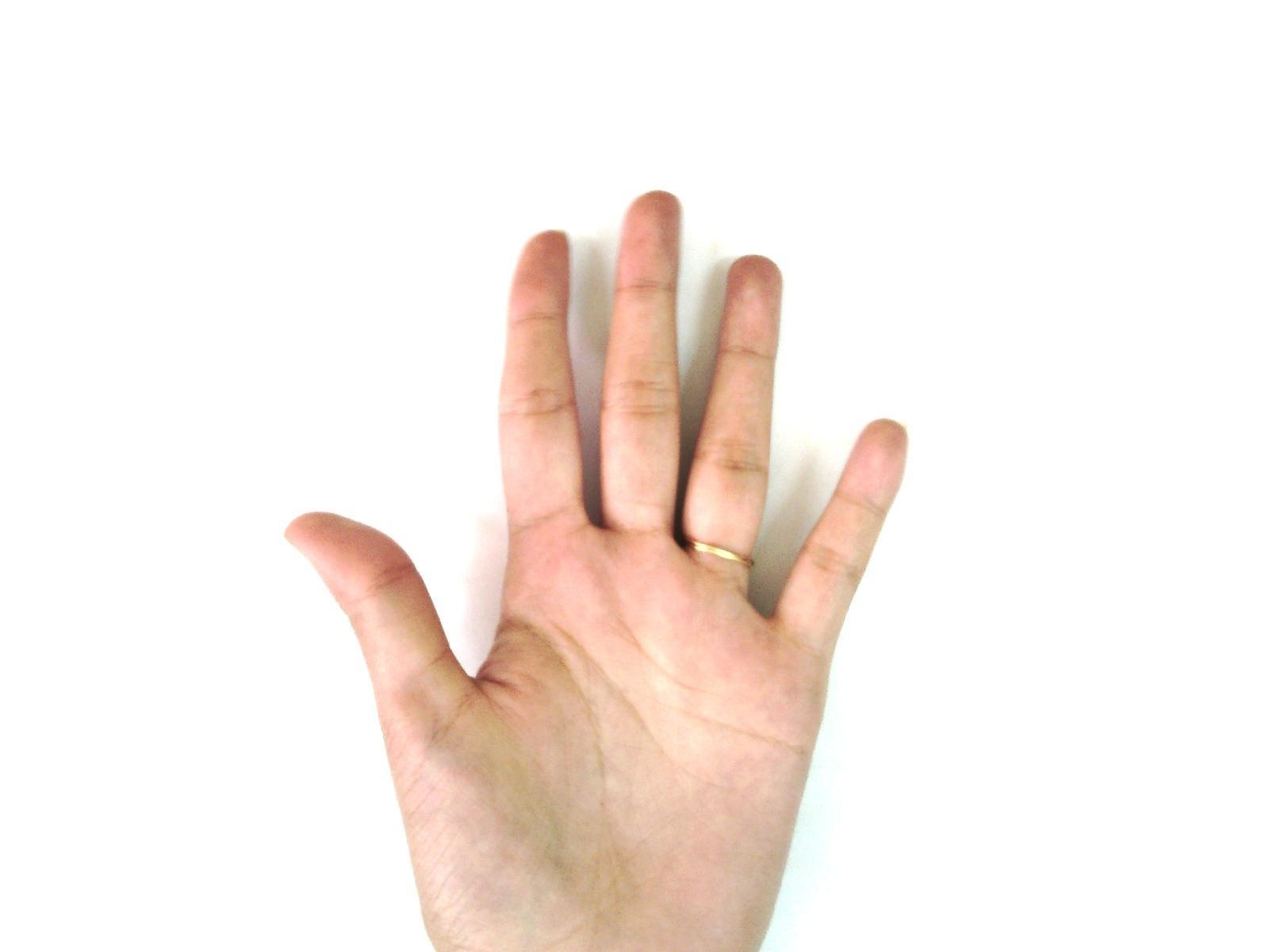open_palm: (283, 189, 911, 951)
